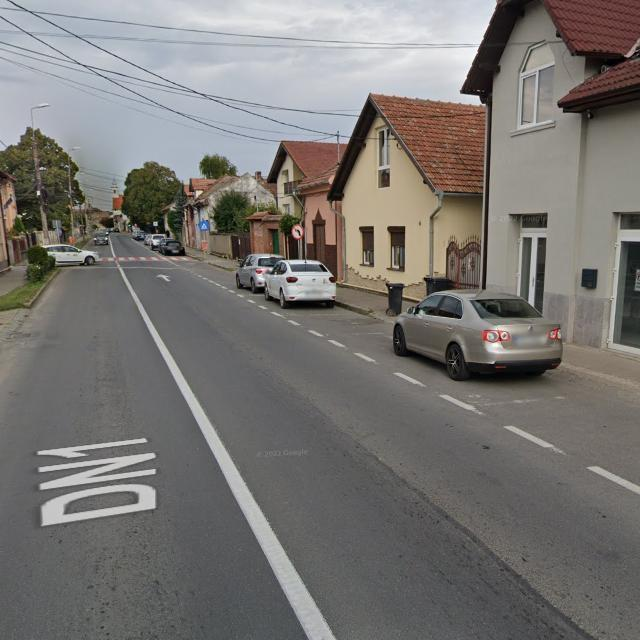info_crosswalk: (200, 221, 210, 231)
